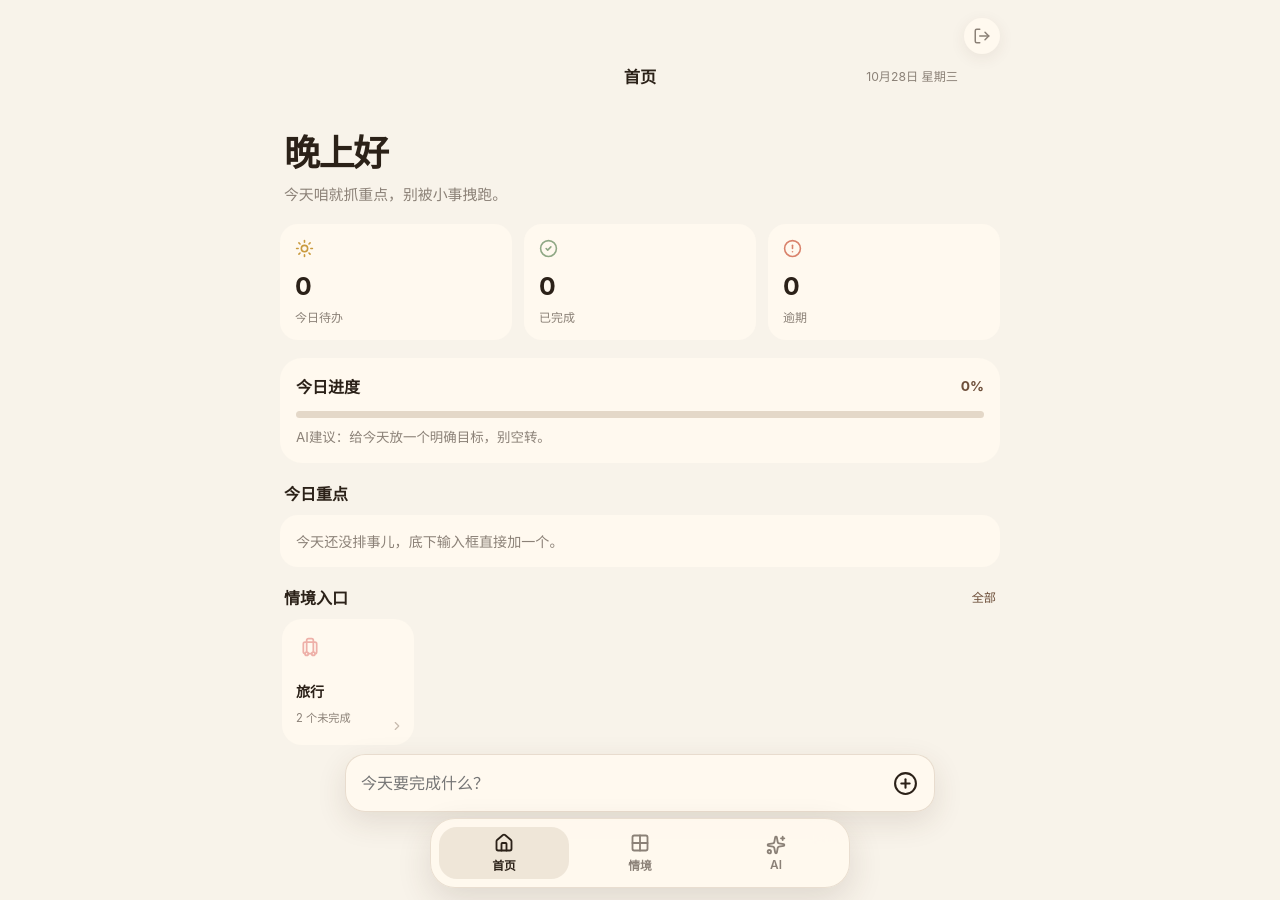
it: home dashboard › opens the full task editor from an empty home add button
The image size is (1280, 900).
What coordinates should you click on to do the following:
click the button named "添加"
I would click on:
 (905, 783)
Its box is [884, 762, 926, 804].
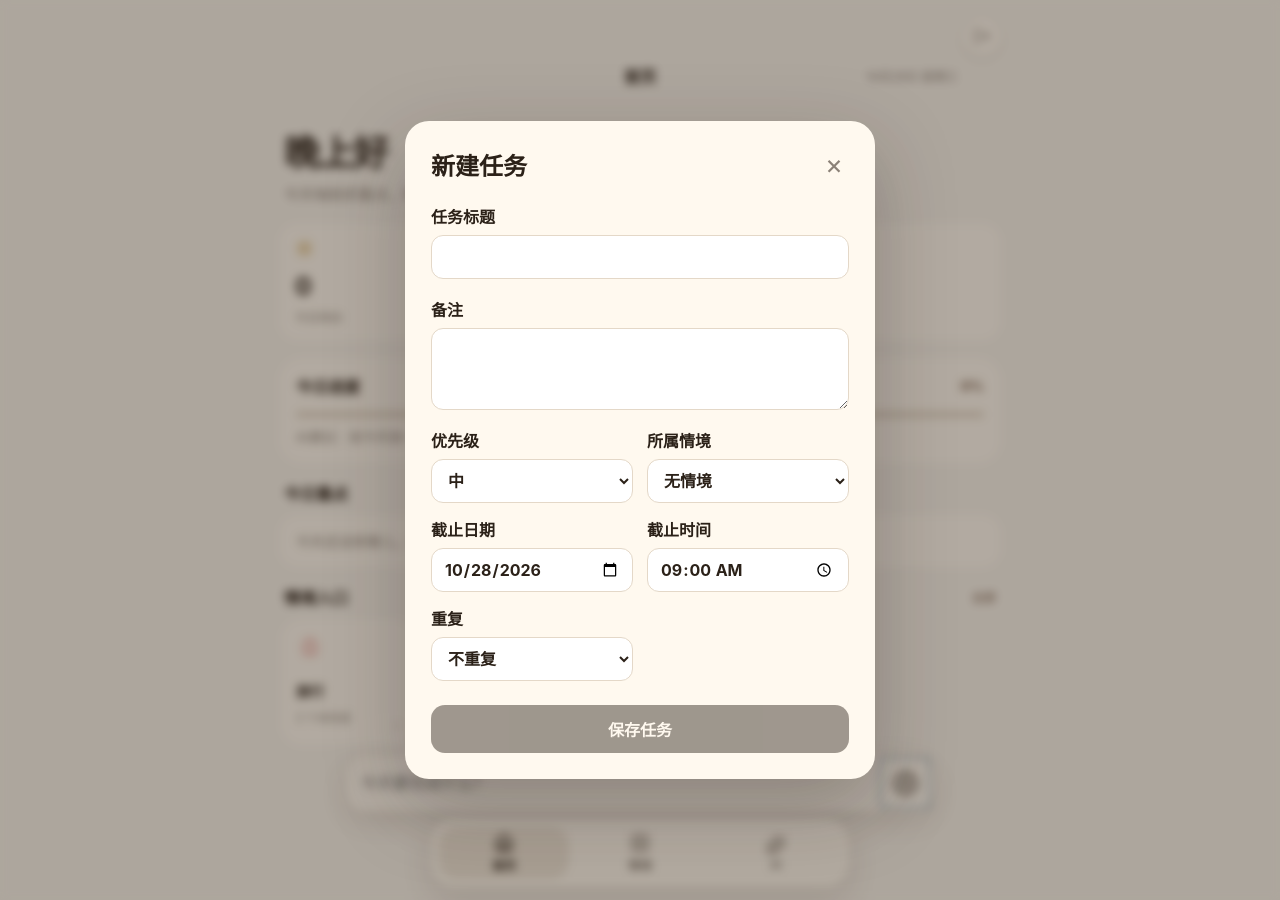
Check: the dialog "新建任务" is shown, box [405, 121, 875, 779]
Check: the field labelled "任务标题" is shown, box [431, 235, 849, 279]
